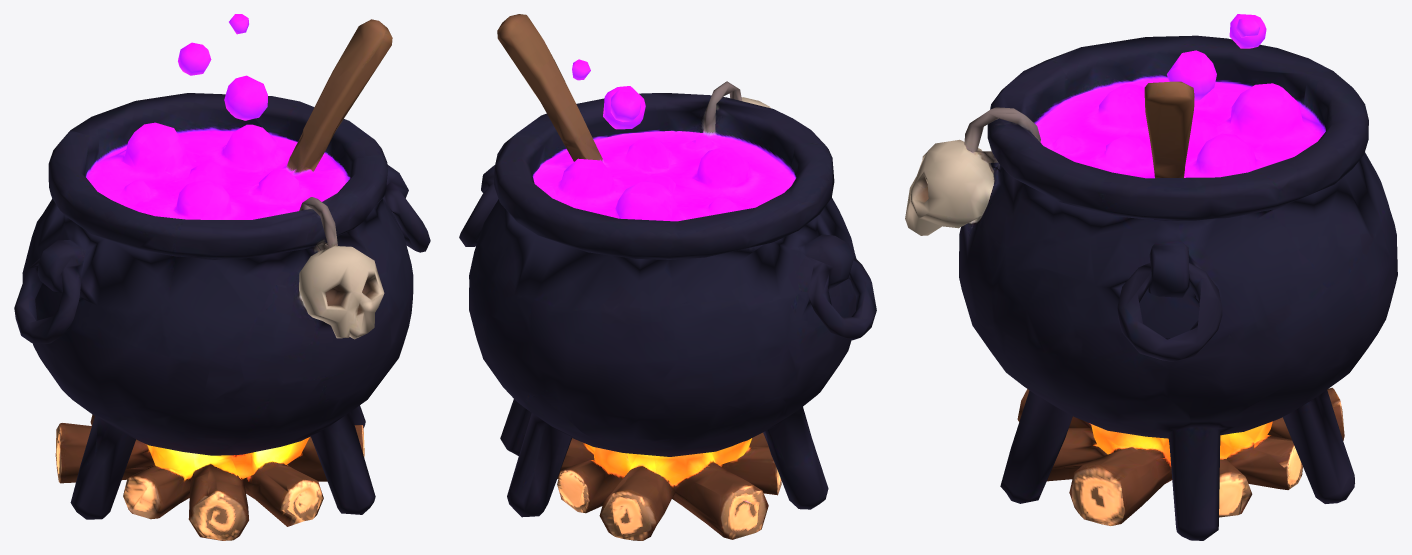
File: gy_cauldron-3LTxlEtJ.glb
The picture shows the model from 3 angles, left to right: view 1: azimuth 30°, elevation 25°; view 2: azimuth 150°, elevation 25°; view 3: azimuth 270°, elevation 25°; orthographic projection. The views are drawn at different scales.
Visible parts, largest first — view 1: tripo_node_d287ccac-efd2-468f-b983-ed223ab1eb6e; view 2: tripo_node_d287ccac-efd2-468f-b983-ed223ab1eb6e; view 3: tripo_node_d287ccac-efd2-468f-b983-ed223ab1eb6e.
Boxes of the visible parts, left/top/right/bottom form: tripo_node_d287ccac-efd2-468f-b983-ed223ab1eb6e: left=14, top=14, right=430, bottom=540; tripo_node_d287ccac-efd2-468f-b983-ed223ab1eb6e: left=459, top=14, right=876, bottom=540; tripo_node_d287ccac-efd2-468f-b983-ed223ab1eb6e: left=905, top=14, right=1397, bottom=540.
Size of the model in its own units: 0.9691 by 1 by 0.934.
1 material, 1 textured.
